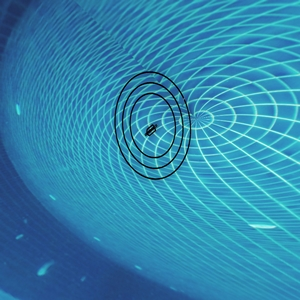circle: (101, 66, 236, 228)
submarine: (145, 133, 166, 159), (144, 125, 156, 137)
